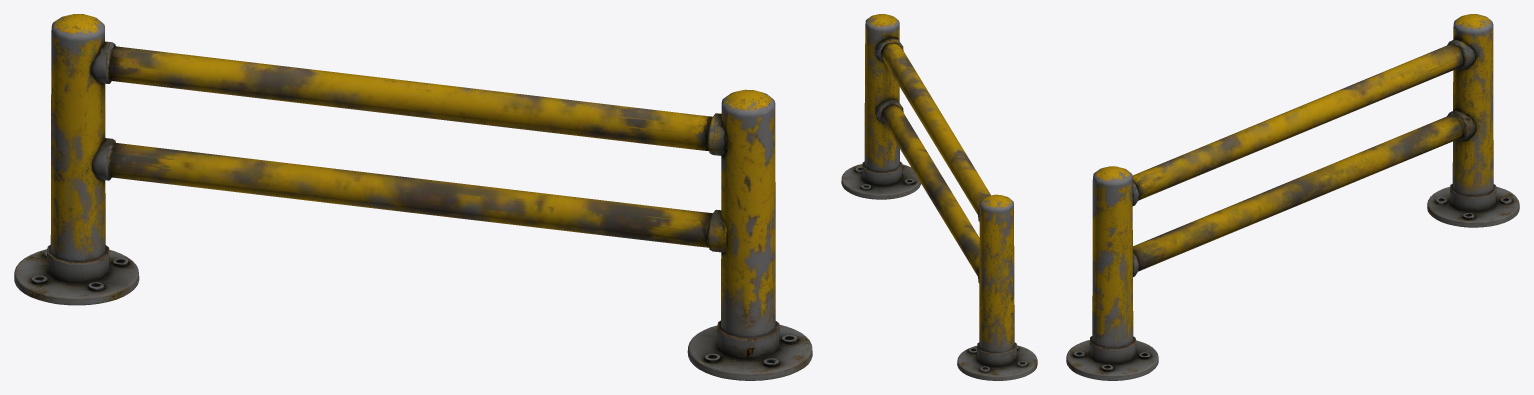
The model's file is selected.fbx.
3 renders of one model, left to right at view 1: azimuth 30°, elevation 25°; view 2: azimuth 150°, elevation 25°; view 3: azimuth 270°, elevation 25°, orthographic. The views are drawn at different scales.
Visible parts, largest first — view 1: tripo_node_63e57f8c-276e-4591-850a-65d605cbc49e; view 2: tripo_node_63e57f8c-276e-4591-850a-65d605cbc49e; view 3: tripo_node_63e57f8c-276e-4591-850a-65d605cbc49e.
Part boxes in pixels (x1=…): tripo_node_63e57f8c-276e-4591-850a-65d605cbc49e: x1=14, y1=14, x2=812, y2=380; tripo_node_63e57f8c-276e-4591-850a-65d605cbc49e: x1=841, y1=14, x2=1037, y2=380; tripo_node_63e57f8c-276e-4591-850a-65d605cbc49e: x1=1066, y1=14, x2=1519, y2=380.
Bounding box in the file's own units: 0.9995 × 0.4644 × 0.9966.
Materials: 1 (1 with a texture image).
